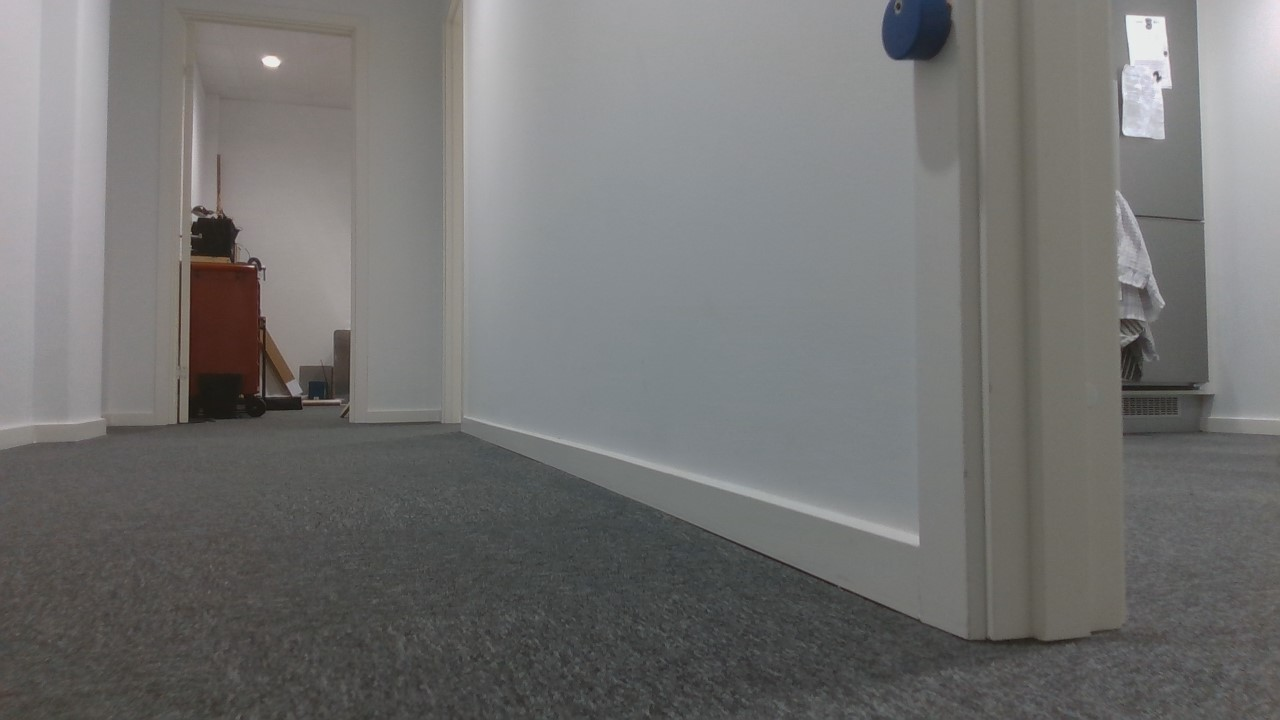alfa: (878, 1, 954, 62)
